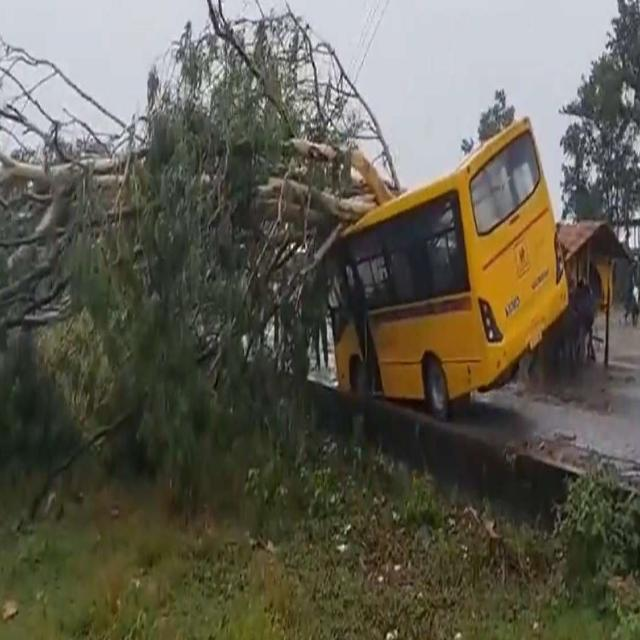Accident: (323, 111, 572, 420)
